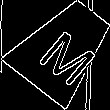M_NE: (28, 15, 98, 82)
